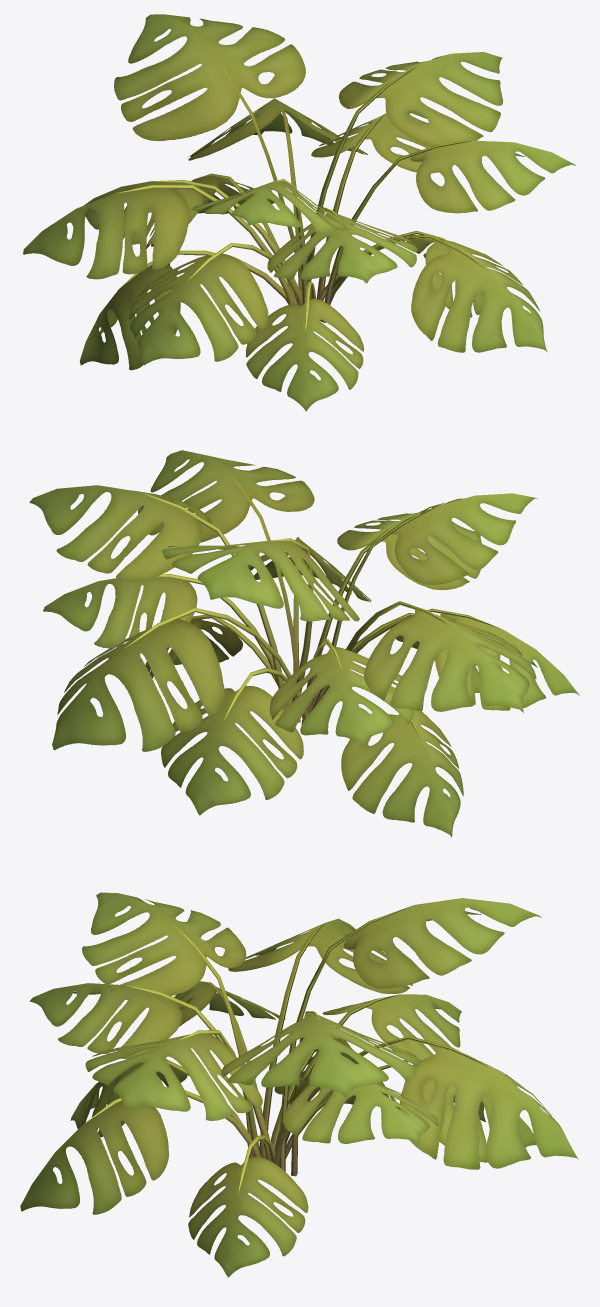
File: monstera 01.obj
3 renders of one model, top to bottom at view 1: azimuth 30°, elevation 25°; view 2: azimuth 150°, elevation 25°; view 3: azimuth 270°, elevation 25°, orthographic. The views are drawn at different scales.
Parts seen in each view (by area): view 1: tree; view 2: tree; view 3: tree.
Boxes of the visible parts, left/top/right/bottom form: tree: left=23, top=14, right=575, bottom=411; tree: left=29, top=450, right=578, bottom=837; tree: left=20, top=892, right=578, bottom=1277.
Size of the model in its own units: 190 by 108 by 179.
